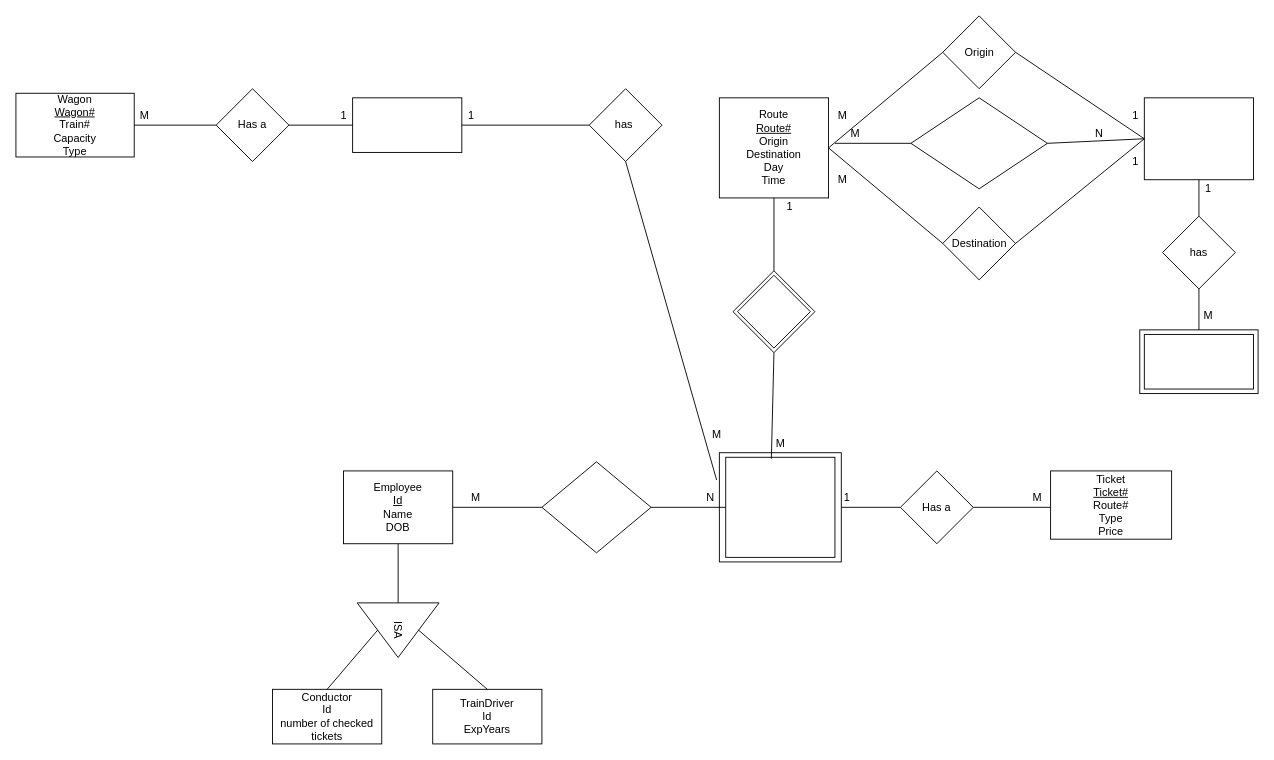
This 1274x760 diagram has some shape labels left out. The shapes that lost their labels are listed below. From the top down, each one's box as (x1, y1, x2, y2) in pixels, then its label:
(352, 97, 462, 152): Train Train# Type
(910, 97, 1047, 189): Stopover Route# TrainStationName
(1143, 97, 1254, 180): TrainStation Name Adress
(737, 274, 810, 348): Daily Route
(1143, 334, 1254, 389): Platfrom Platform# TrainStationName
(541, 461, 651, 553): Crew EmployeeId Route#
(725, 456, 835, 557): Actual Route Route# Train# Date Time Passengers
